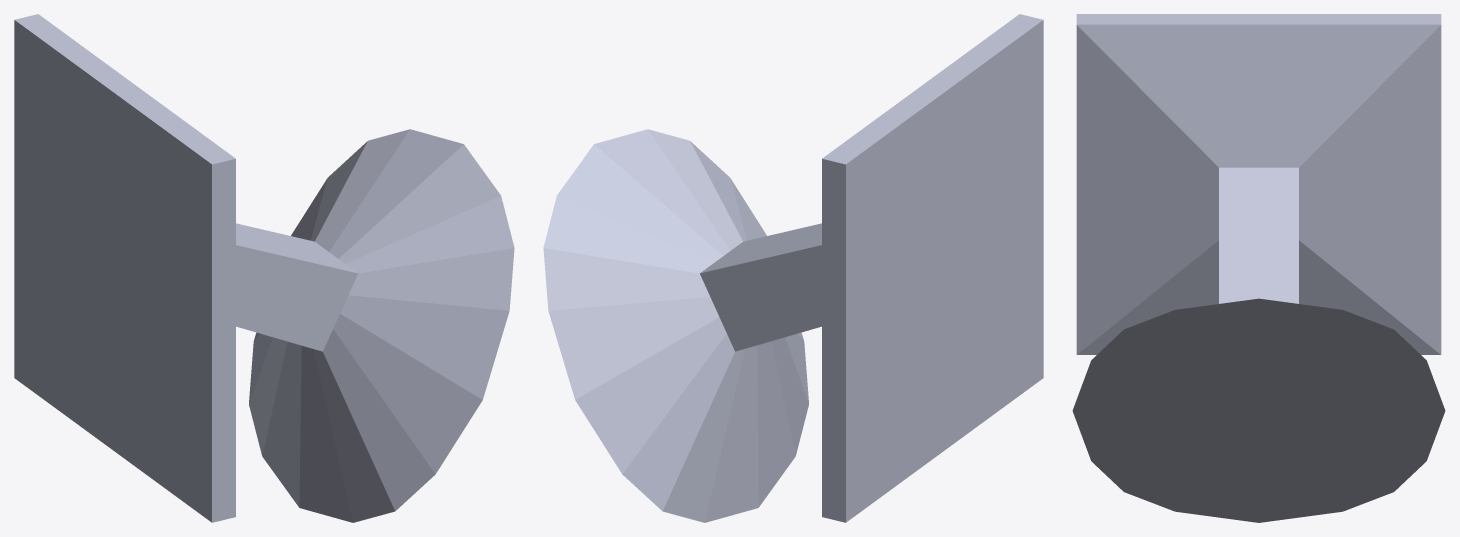
Rendered from Showerhead.fbx.
The picture shows the model from 3 angles, left to right: view 1: azimuth 30°, elevation 25°; view 2: azimuth 150°, elevation 25°; view 3: azimuth 270°, elevation 25°; orthographic projection. The views are drawn at different scales.
Parts seen in each view (by area): view 1: Cube; view 2: Cube; view 3: Cube.
Boxes of the visible parts, x1,y1,x2,y2 form: Cube: (14, 14, 514, 522); Cube: (543, 14, 1043, 522); Cube: (1072, 14, 1445, 522).
Bounding box in the file's own units: 205 × 257 × 205.
